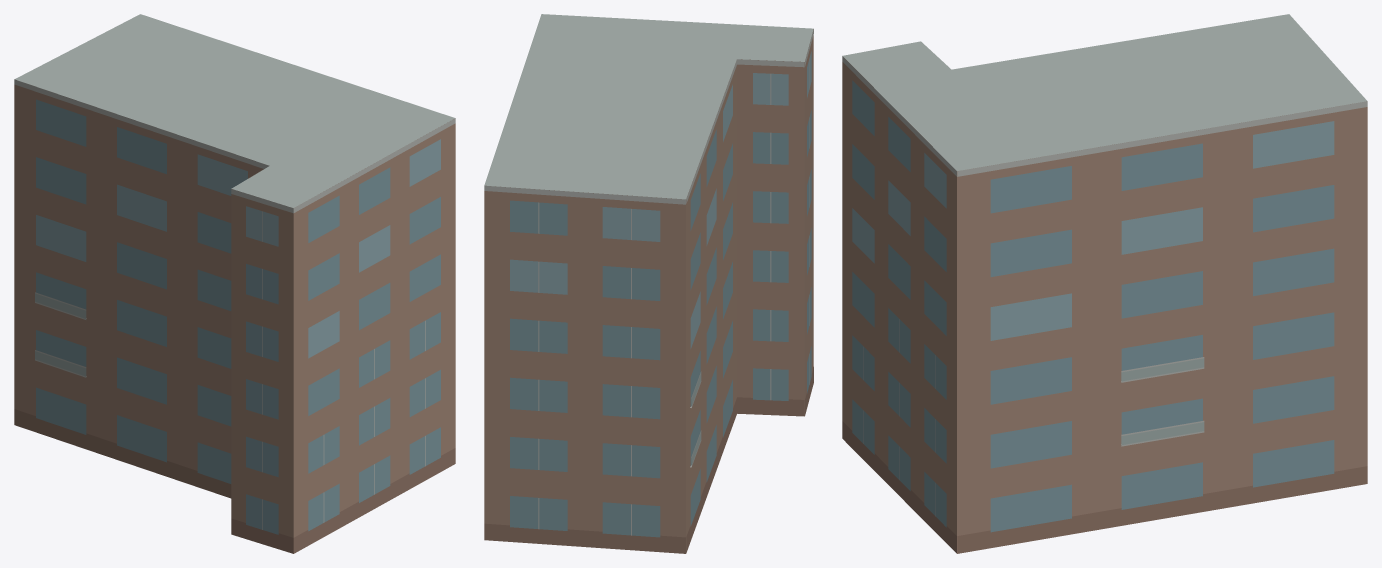
File: survey-upis-32523651.glb
The picture shows the model from 3 angles, left to right: view 1: azimuth 30°, elevation 25°; view 2: azimuth 150°, elevation 25°; view 3: azimuth 270°, elevation 25°; orthographic projection. The views are drawn at different scales.
Visible parts, largest first — view 1: survey-upis-32523651.tmp; view 2: survey-upis-32523651.tmp; view 3: survey-upis-32523651.tmp.
Part boxes in pixels (x1=…): survey-upis-32523651.tmp: x1=14, y1=14, x2=455, y2=553; survey-upis-32523651.tmp: x1=484, y1=14, x2=813, y2=553; survey-upis-32523651.tmp: x1=842, y1=14, x2=1367, y2=553.
Size of the model in its own units: 14.46 by 16.4 by 20.41.
